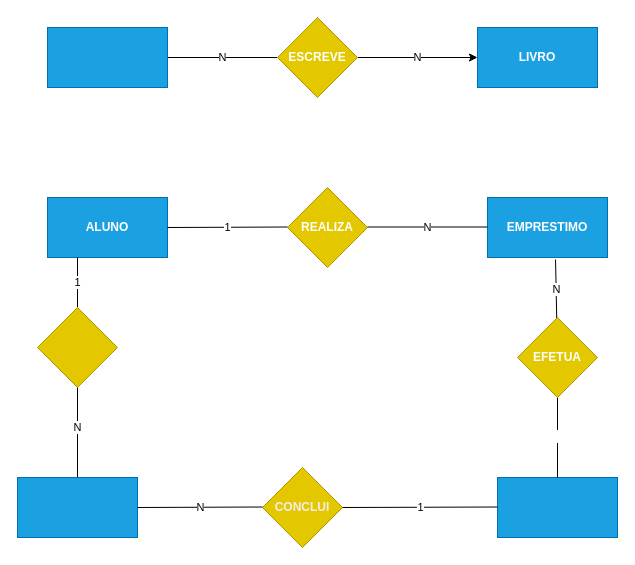
Some shapes in this 635 by 565 pixel diagram are drawn without their labels. Here are the shapes that lost their labels. From the top down, the centre of each, then its label:
At (107,57): "AUTOR".
At (77,347): "SOLICITA".
At (77,507): "DEVOLUÇÃO".
At (557,507): "FUNCIONÁRIO".
